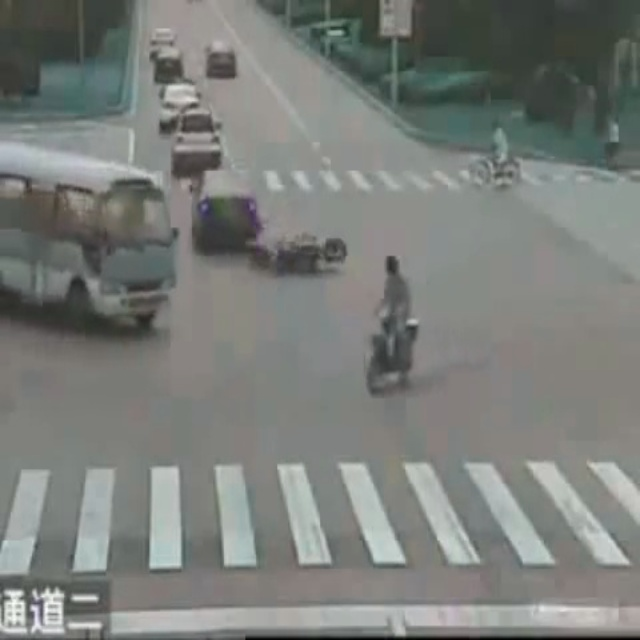acc: (189, 169, 349, 276)
